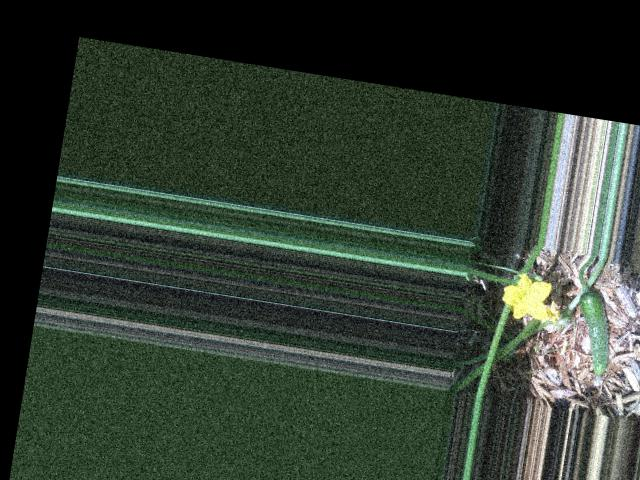cucumber: (566, 287, 619, 385)
